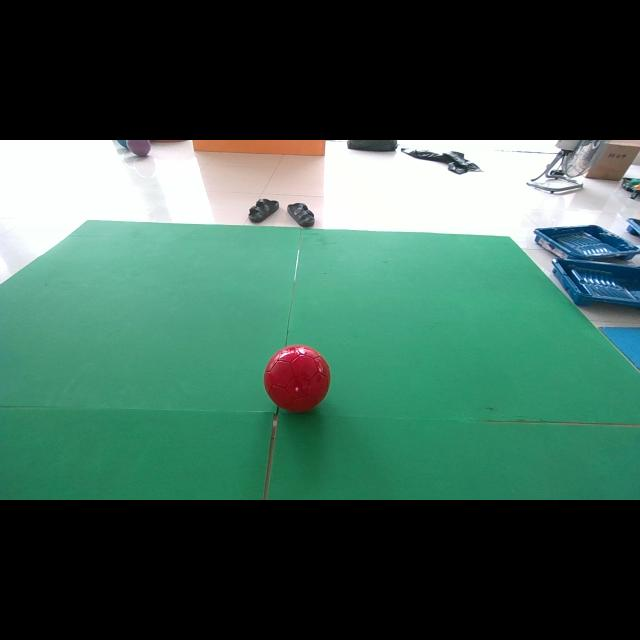P: (126, 140, 150, 156)
R: (264, 345, 330, 412)
